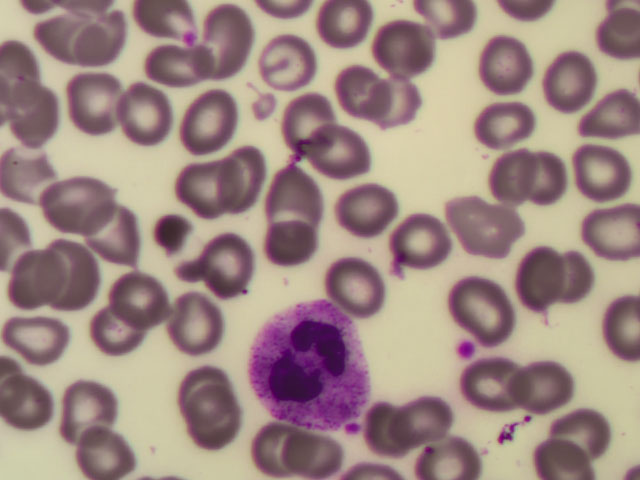Platelets: (457, 339, 474, 361), (179, 30, 198, 44)
RBC: (33, 8, 90, 58), (75, 16, 132, 66), (66, 73, 123, 123), (107, 82, 164, 132), (142, 50, 199, 100), (203, 12, 260, 62), (189, 95, 246, 145), (170, 163, 227, 213), (214, 144, 271, 194), (271, 169, 328, 219), (267, 210, 324, 260), (309, 131, 366, 181), (284, 95, 341, 145), (265, 39, 322, 89), (324, 2, 381, 52), (381, 16, 438, 66), (370, 85, 427, 135), (340, 69, 397, 119), (467, 35, 524, 85), (477, 102, 534, 152), (551, 56, 608, 106), (577, 82, 634, 132), (575, 139, 632, 189), (527, 155, 584, 205), (484, 151, 541, 201), (456, 207, 513, 257), (398, 217, 455, 267), (333, 187, 390, 237), (327, 254, 384, 304), (208, 241, 265, 291), (98, 219, 155, 269), (56, 183, 113, 233), (46, 241, 103, 291), (20, 253, 77, 303), (15, 314, 72, 364), (89, 305, 146, 355), (120, 273, 177, 323), (170, 300, 227, 350), (164, 369, 221, 419), (181, 396, 238, 446), (68, 383, 125, 433), (76, 423, 133, 473), (13, 382, 70, 432), (282, 430, 339, 480), (242, 430, 299, 480), (353, 405, 410, 455), (392, 394, 449, 444), (458, 360, 515, 410), (507, 355, 564, 405), (456, 283, 513, 333), (514, 247, 571, 297), (538, 248, 595, 298), (577, 208, 634, 258), (6, 86, 63, 136), (2, 150, 59, 200)
WBC: (246, 299, 375, 428)
